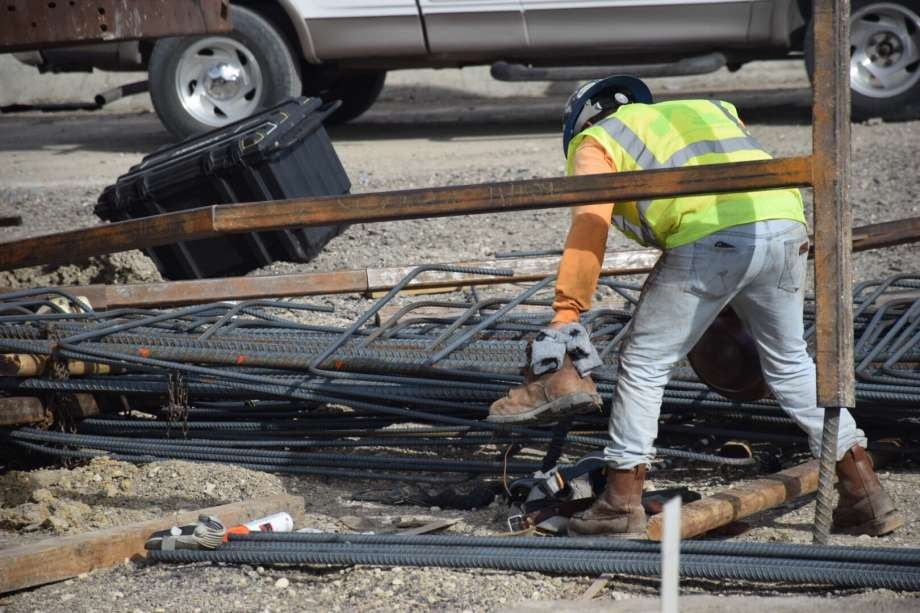blue: (561, 76, 646, 149)
